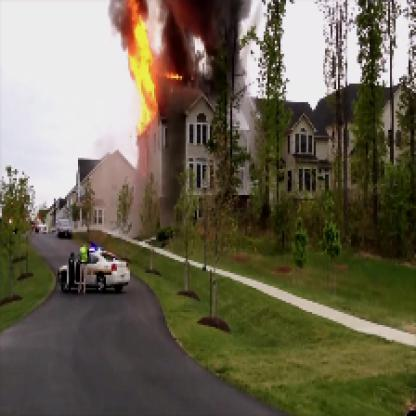Fire: (112, 2, 190, 132)
Smoke: (154, 2, 249, 85)
